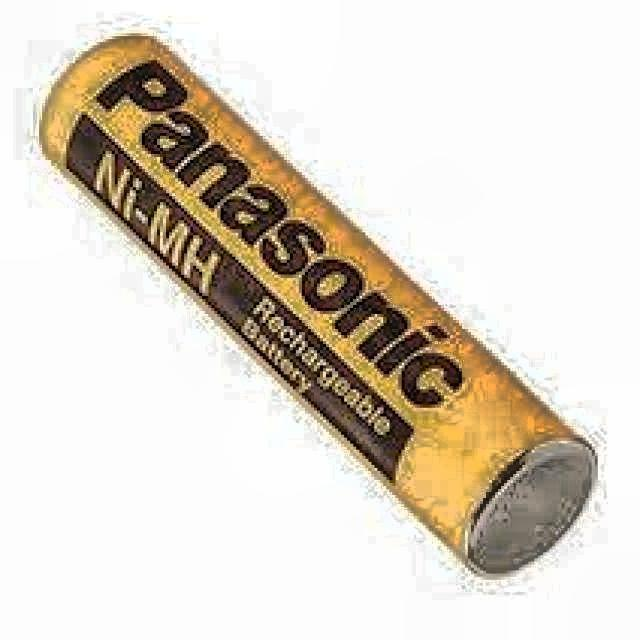battery: (40, 33, 594, 577)
